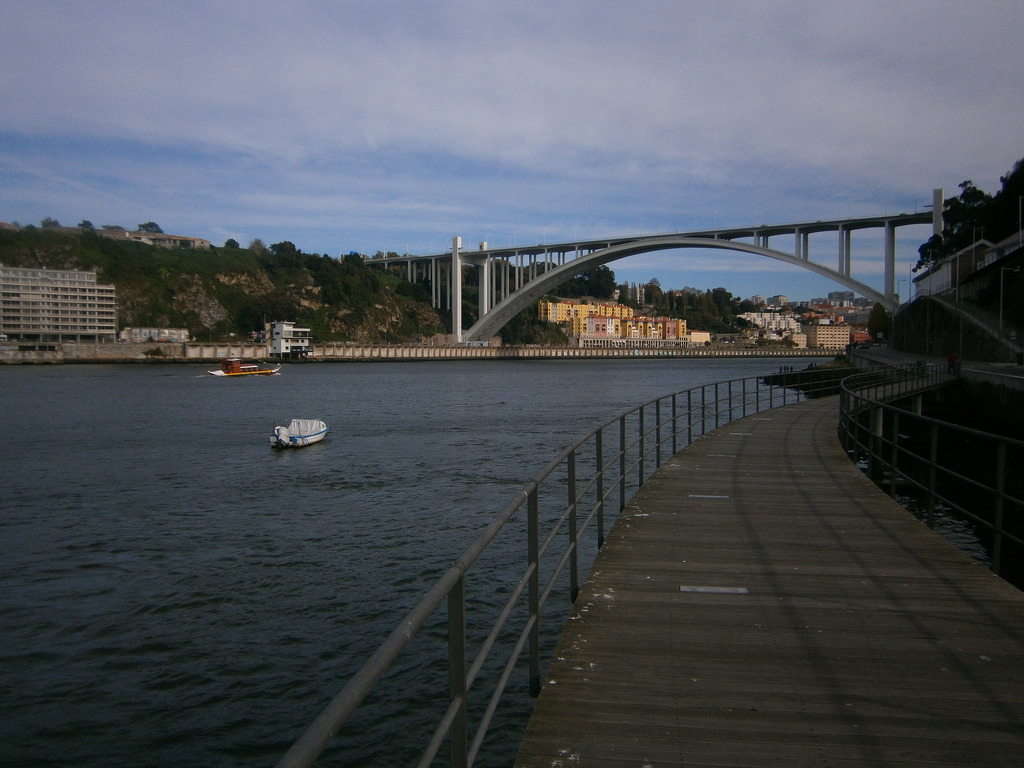arrabida: (365, 186, 965, 346)
